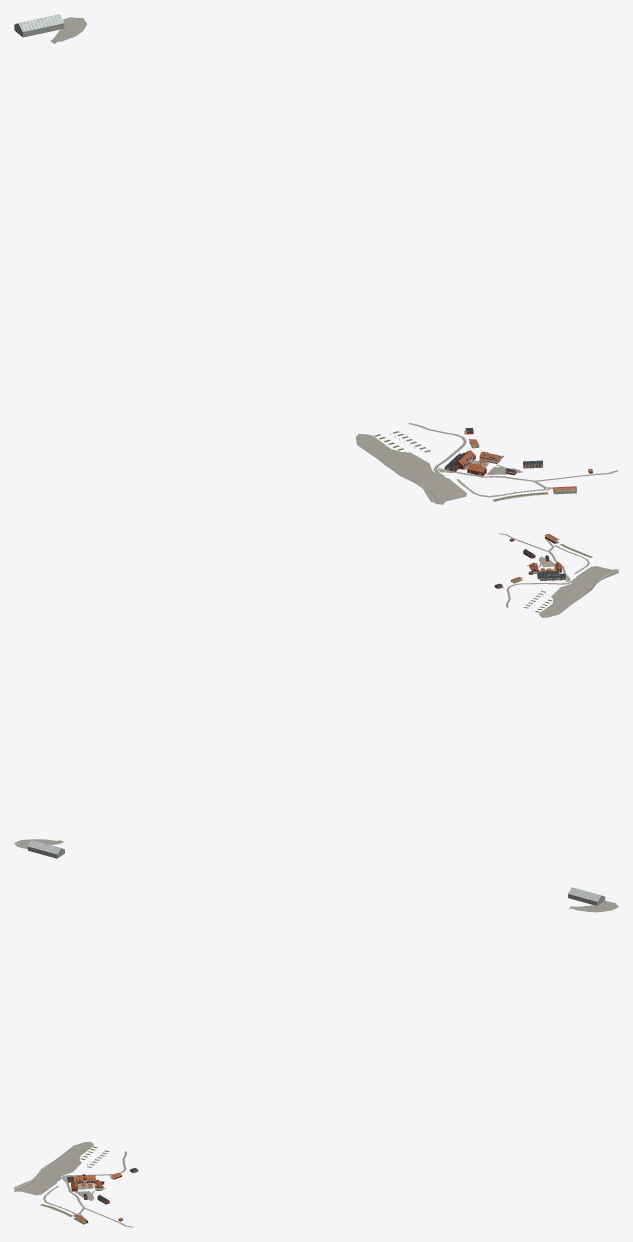
3 views of the same model, one above another, from view 1: azimuth 30°, elevation 25°; view 2: azimuth 150°, elevation 25°; view 3: azimuth 330°, elevation 25° (orthographic). The views are drawn at different scales.
Parts seen in each view (by area): view 1: Runtime S02 ANG MODEL 4 | campus_gravel, Runtime S01 ANG MODEL 4 | campus_gravel; view 2: Runtime S02 ANG MODEL 4 | campus_gravel, Runtime S01 ANG MODEL 4 | campus_gravel; view 3: Runtime S02 ANG MODEL 4 | campus_gravel, Runtime S01 ANG MODEL 4 | campus_gravel.
Part boxes in pixels (<box>): Runtime S02 ANG MODEL 4 | campus_gravel: <box>408,423,618,504</box>; Runtime S01 ANG MODEL 4 | campus_gravel: <box>355,434,441,483</box>; Runtime S02 ANG MODEL 4 | campus_gravel: <box>499,533,618,607</box>; Runtime S01 ANG MODEL 4 | campus_gravel: <box>539,579,596,617</box>; Runtime S02 ANG MODEL 4 | campus_gravel: <box>14,1151,133,1227</box>; Runtime S01 ANG MODEL 4 | campus_gravel: <box>36,1141,93,1180</box>.
Bounding box in the file's own units: 236 × 17.78 × 1092.
